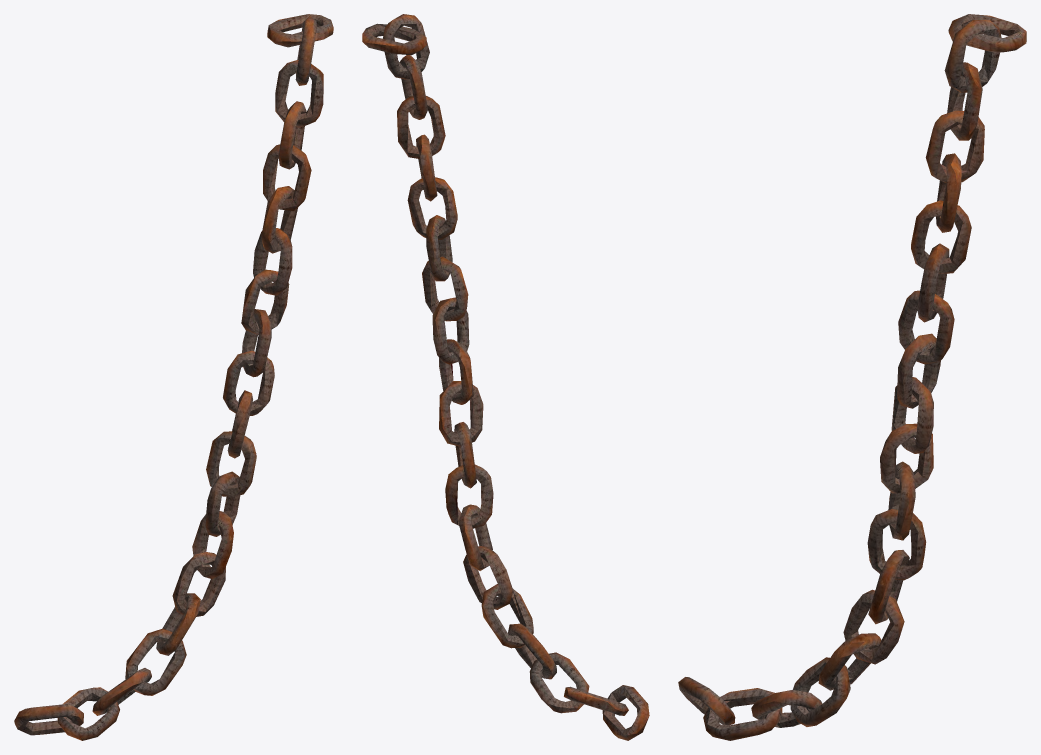
The model's file is iron_chain.glb.
3 renders of one model, left to right at view 1: azimuth 30°, elevation 25°; view 2: azimuth 150°, elevation 25°; view 3: azimuth 330°, elevation 25°, orthographic. The views are drawn at different scales.
Parts seen in each view (by area): view 1: iron_chain; view 2: iron_chain; view 3: iron_chain.
Boxes of the visible parts, x1,y1,x2,y2 form: iron_chain: (14,14,333,740); iron_chain: (362,14,649,740); iron_chain: (678,14,1026,740).
Size of what is drawn, in the model's own units: 0.2838 by 0.6001 by 0.0656.
1 material, 1 textured.
